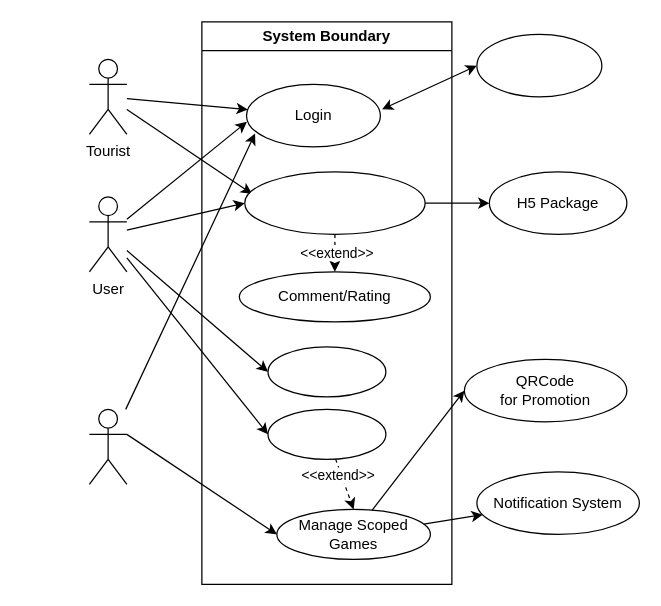
This 661x606 diagram has some shape labels left out. Each missing label, with the centre of its shape:
Authorization Server: point 539,65
Edit Profile: point 326,371
Manager (from student association): point 107,446
Play/Download Game: point 334,202
Upload Game: point 326,433
